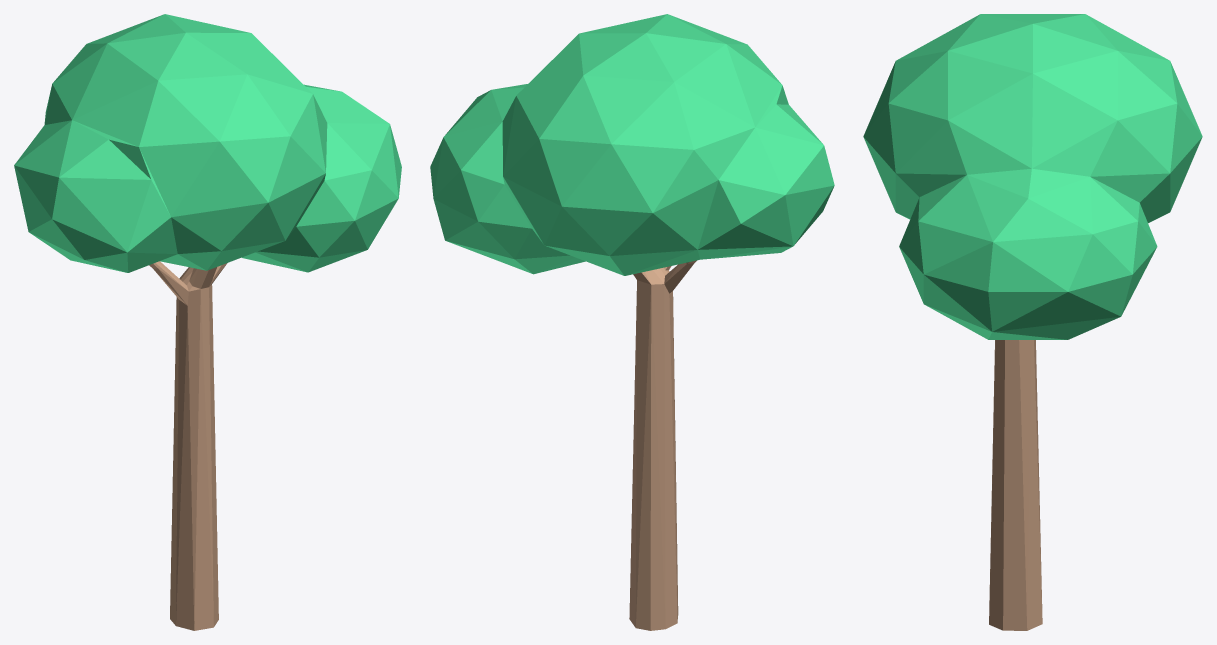
File: tree8.fbx
3 views of the same model, side by side, from view 1: azimuth 30°, elevation 25°; view 2: azimuth 150°, elevation 25°; view 3: azimuth 270°, elevation 25° (orthographic). The views are drawn at different scales.
Visible parts, largest first — view 1: treetype8; view 2: treetype8; view 3: treetype8.
Part boxes in pixels (x1,y1,x2,y2): treetype8: (14, 14, 401, 630); treetype8: (430, 14, 834, 630); treetype8: (863, 14, 1202, 630).
Size of the model in its own units: 130 by 204 by 105.
